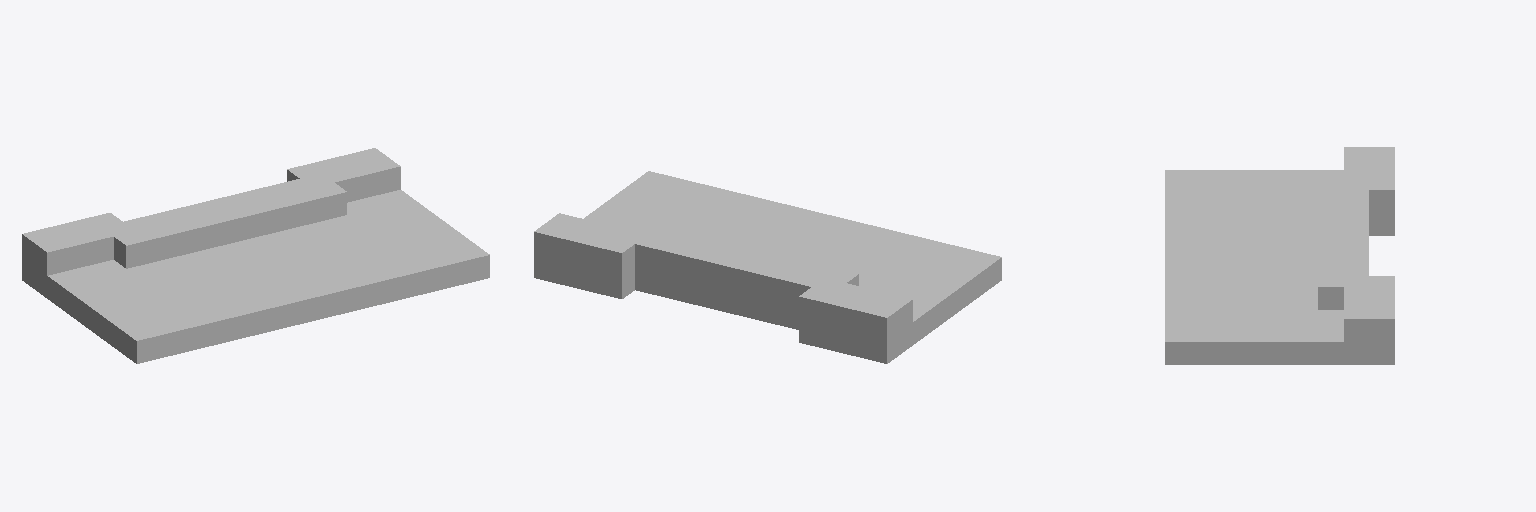
The model's file is 3D Voxel Park-64.obj.
3 renders of one model, left to right at view 1: azimuth 30°, elevation 25°; view 2: azimuth 150°, elevation 25°; view 3: azimuth 270°, elevation 25°, orthographic.
Visible parts, largest first — view 1: object 1; view 2: object 1; view 3: object 1.
Part boxes in pixels (x1,y1,x2,y2): object 1: (22,148,489,363); object 1: (534,171,1001,363); object 1: (1165,147,1394,364).
Bounding box in the file's own units: 1.6 × 0.2 × 0.9.